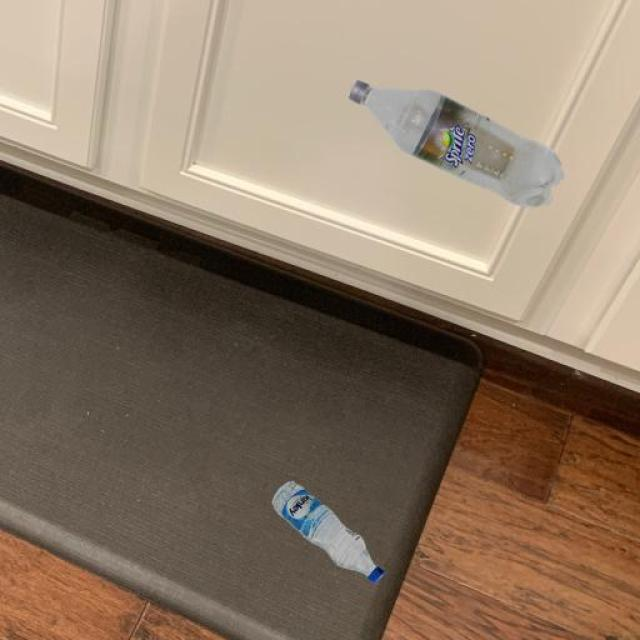plastic: (350, 81, 561, 205), (272, 482, 384, 582)
